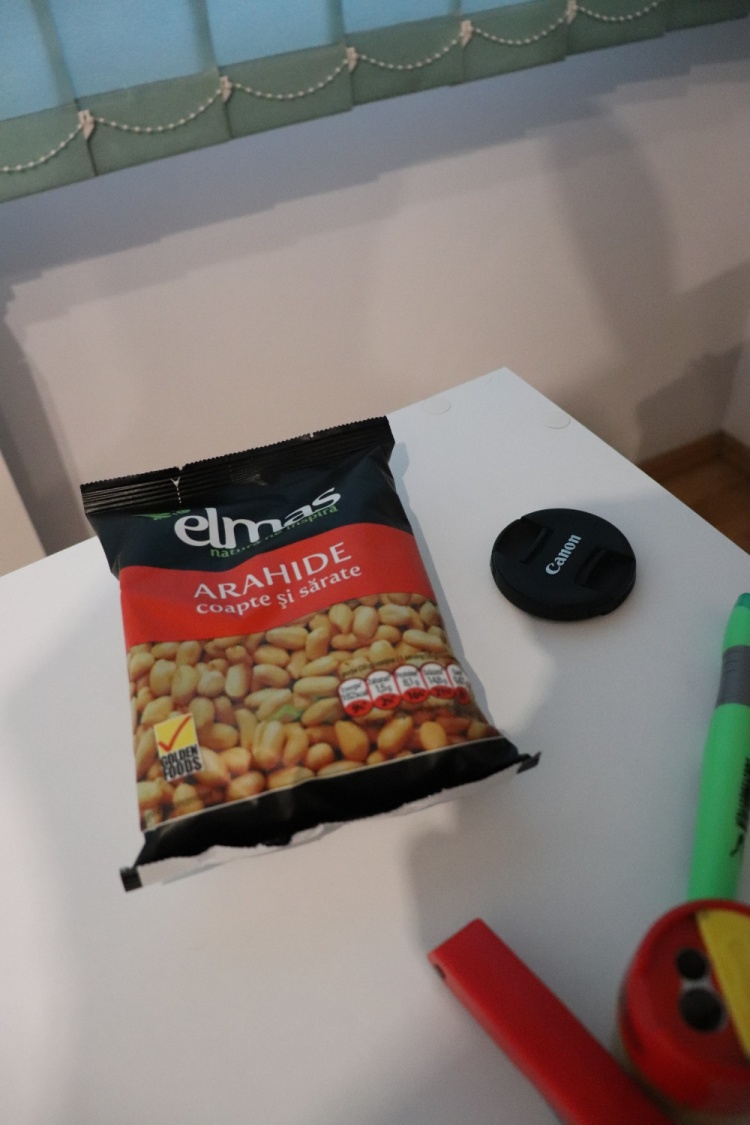peanuts: (76, 412, 547, 920)
